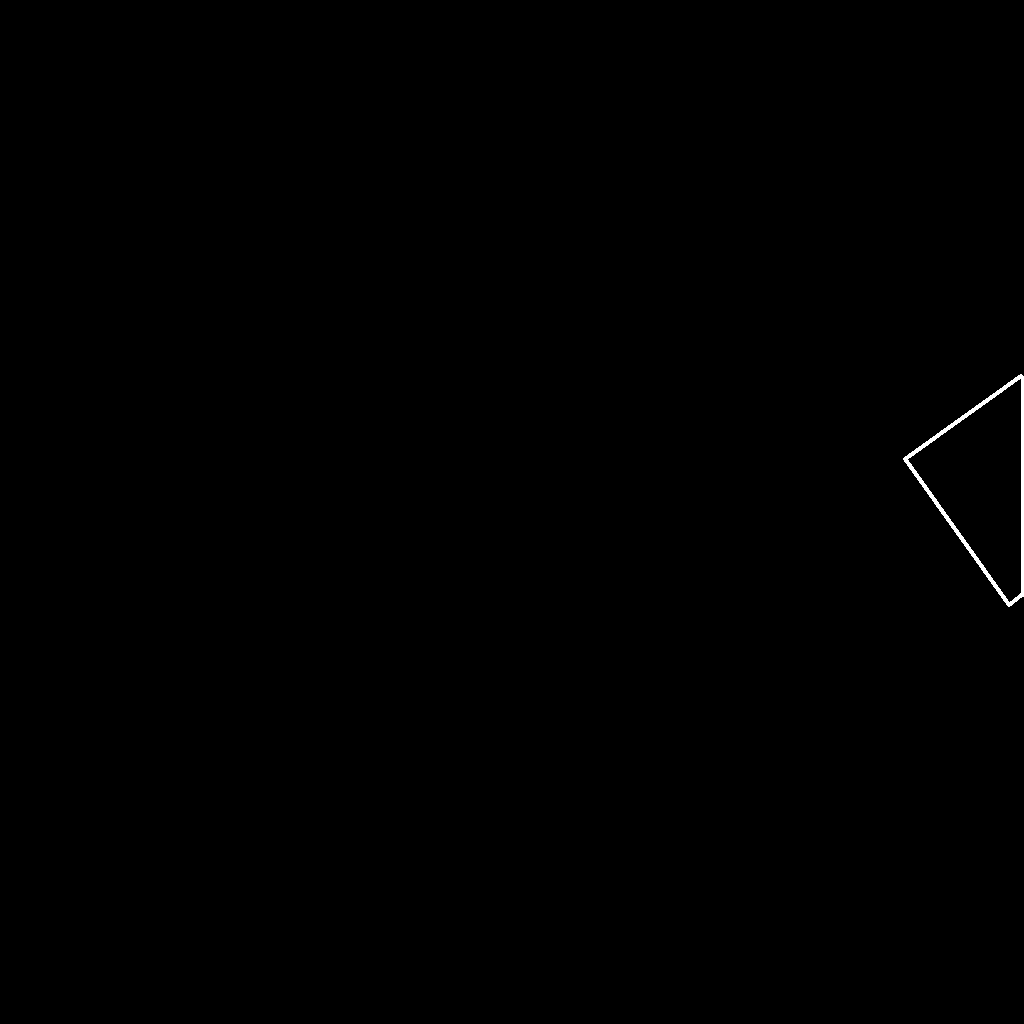building: (905, 376, 1024, 606)
